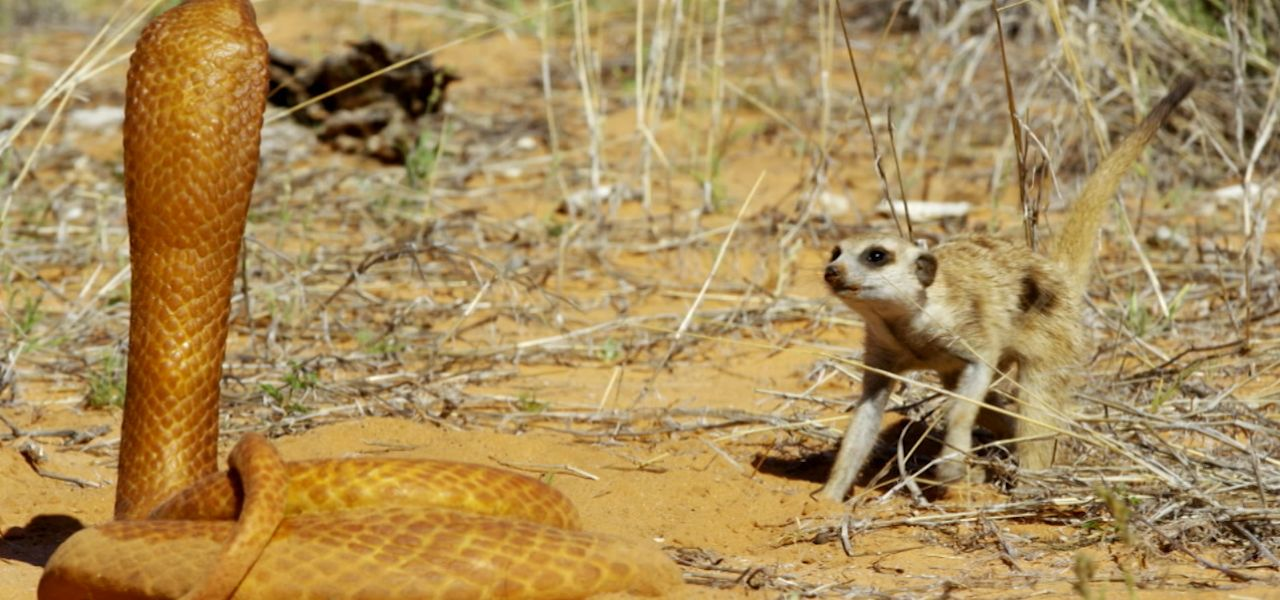meerkat: (794, 184, 1105, 530)
